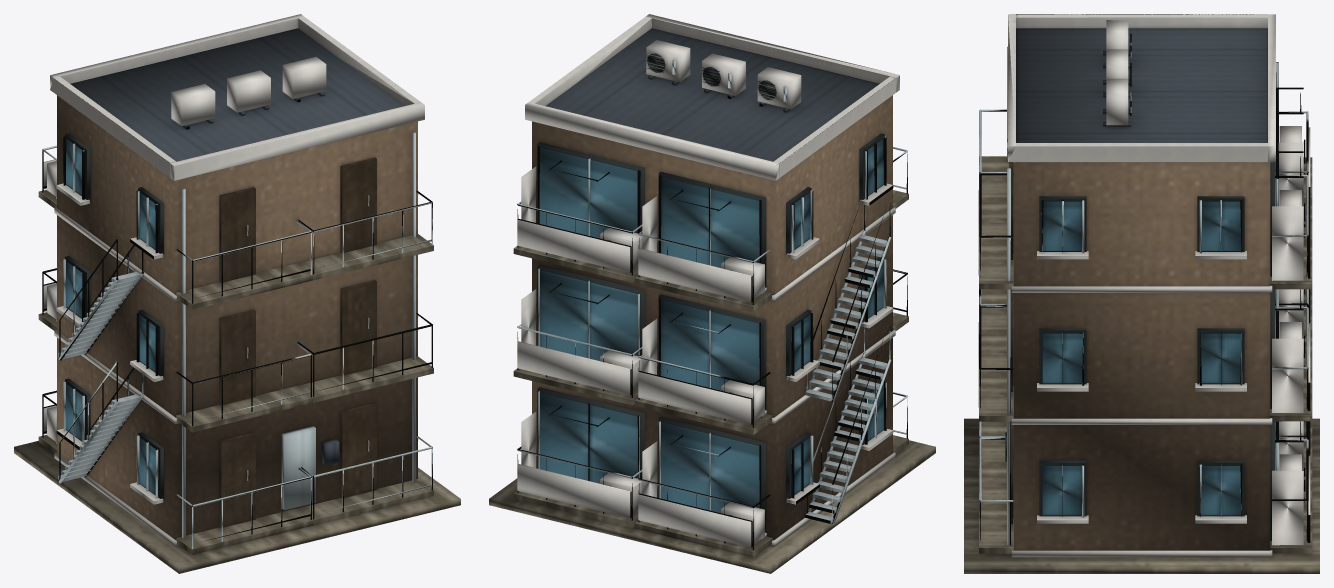
File: residential_016.obj
The picture shows the model from 3 angles, left to right: view 1: azimuth 30°, elevation 25°; view 2: azimuth 150°, elevation 25°; view 3: azimuth 270°, elevation 25°; orthographic projection. The views are drawn at different scales.
Visible parts, largest first — view 1: residential_016; view 2: residential_016; view 3: residential_016.
Part boxes in pixels (bbox=[...]): residential_016: bbox=[14, 14, 460, 573]; residential_016: bbox=[489, 14, 935, 573]; residential_016: bbox=[964, 14, 1319, 573].
Size of the model in its own units: 7.34 by 9.86 by 7.2.
Materials: 1 (1 with a texture image).
